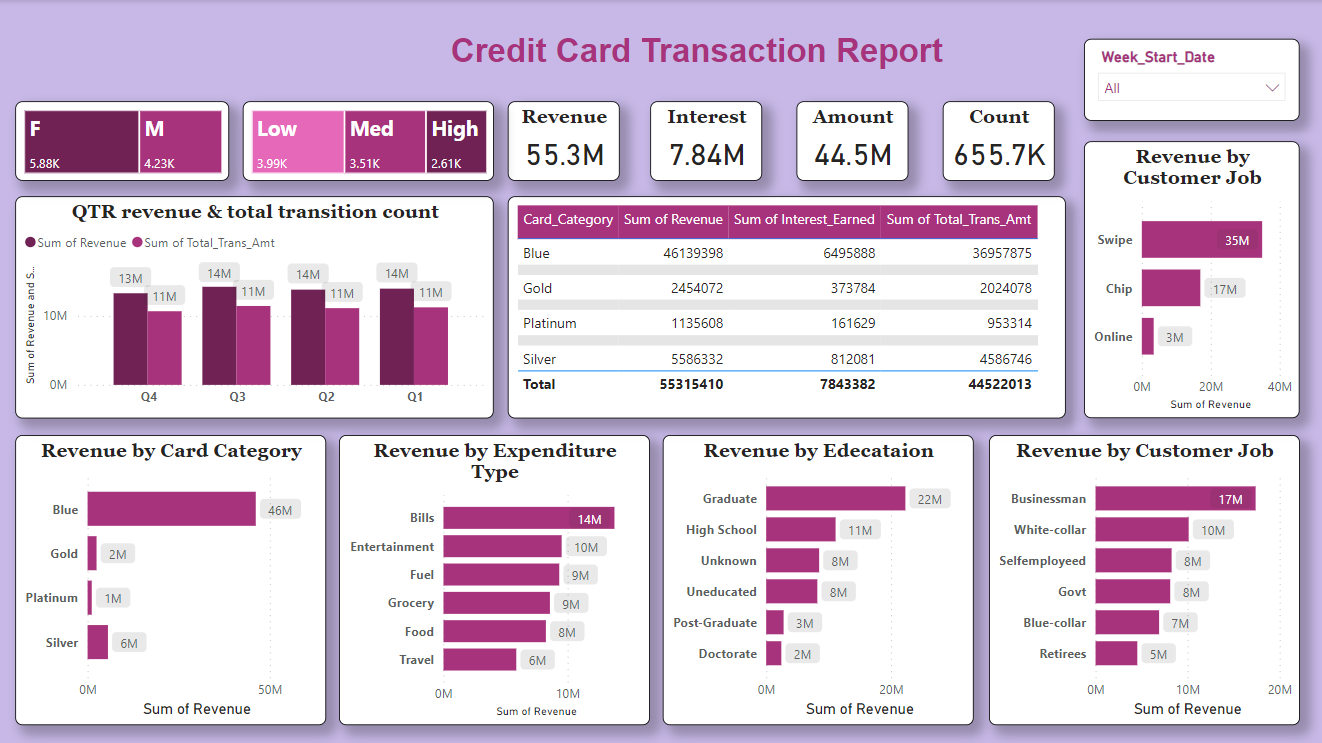

What the dashboard file says about the page in this screenshot:
{"tool":"powerbi","page":{"name":"Page 1","canvas":[1280,720],"ordinal":0},"visuals":[{"type":"barChart","title":"Revenue by Card Category","fields":{"Category":["credit_card.Card_Category"],"Y":["Sum(credit_card.Revenue)"]},"box":[16.1,419.7,300,279.8],"z":0},{"type":"textbox","box":[406.1,26,533.6,66.9],"z":1000},{"type":"clusteredColumnChart","title":"QTR revenue & total transition count","fields":{"Category":["credit_card.Qtr"],"Y":["Sum(credit_card.Revenue)","Sum(credit_card.Total_Trans_Amt)"]},"box":[16.1,189.4,461.8,214.2],"z":2000},{"type":"barChart","title":"Revenue by Expenditure Type","fields":{"Y":["Sum(credit_card.Revenue)"],"Category":["credit_card.Exp Type"]},"box":[328.1,419.7,299.6,279.8],"z":3000},{"type":"barChart","title":"Revenue by Edecataion","fields":{"Y":["Sum(credit_card.Revenue)"],"Category":["customer.Education_Level"]},"box":[640.1,419.7,299.6,279.8],"z":4000},{"type":"barChart","title":"Revenue by Customer Job","fields":{"Y":["Sum(credit_card.Revenue)"],"Category":["customer.Customer_Job"]},"box":[954.6,419.7,299.6,279.8],"z":5000},{"type":"barChart","title":"Revenue by Customer Job","fields":{"Y":["Sum(credit_card.Revenue)"],"Category":["credit_card.Use Chip"]},"box":[1046.2,136.2,208,267.4],"z":6000},{"type":"tableEx","title":"QTR revenue & total transition count","fields":{"Values":["credit_card.Card_Category","Sum(credit_card.Revenue)","Sum(credit_card.Interest_Earned)","Sum(credit_card.Total_Trans_Amt)"]},"box":[490.3,189.4,538.6,214.2],"z":7000},{"type":"card","title":"Revenue","fields":{"Values":["Sum(credit_card.Revenue)"]},"box":[490.3,97.8,107.7,76.8],"z":8000},{"type":"card","title":"Interest ","fields":{"Values":["Sum(credit_card.Interest_Earned)"]},"box":[627.7,97.8,107.7,76.8],"z":9000},{"type":"card","title":"Amount","fields":{"Values":["Sum(credit_card.Total_Trans_Amt)"]},"box":[768.9,97.8,107.7,76.8],"z":10000},{"type":"card","title":"Count","fields":{"Values":["Sum(credit_card.Total_Trans_Vol)"]},"box":[910,97.8,107.7,76.8],"z":11000},{"type":"slicer","fields":{"Values":["credit_card.Week_Start_Date"]},"box":[1046.2,37.1,208,79.2],"z":11001},{"type":"treemap","fields":{"Group":["customer.Gender"],"Values":["CountNonNull(customer.Client_Num)"]},"box":[16.1,97.8,206.8,76.8],"z":11002},{"type":"treemap","title":"Client Income","fields":{"Values":["CountNonNull(credit_card.Client_Num)"],"Group":["customer.IncomeGroup"]},"box":[235.2,97.8,242.7,76.8],"z":11004}]}

Visuals, with their boxes in screenshot pixels (x1, y1, x2, y2), scaled from the page's 1280x720 canvas onto the 1322x743 screenshot:
"Revenue by Card Category" barChart: (17,433,326,722)
textbox: (419,27,971,96)
"QTR revenue & total transition count" clusteredColumnChart: (17,195,494,416)
"Revenue by Expenditure Type" barChart: (339,433,648,722)
"Revenue by Edecataion" barChart: (661,433,971,722)
"Revenue by Customer Job" barChart: (986,433,1295,722)
"Revenue by Customer Job" barChart: (1081,141,1295,416)
"QTR revenue & total transition count" tableEx: (506,195,1063,416)
"Revenue" card: (506,101,618,180)
"Interest " card: (648,101,760,180)
"Amount" card: (794,101,905,180)
"Count" card: (940,101,1051,180)
slicer - credit_card.Week_Start_Date: (1081,38,1295,120)
treemap - customer.Gender x CountNonNull(customer.Client_Num): (17,101,230,180)
"Client Income" treemap: (243,101,494,180)
